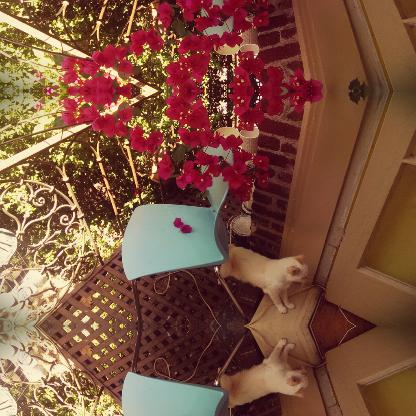Cat: (218, 243, 308, 311), (218, 339, 308, 407)
